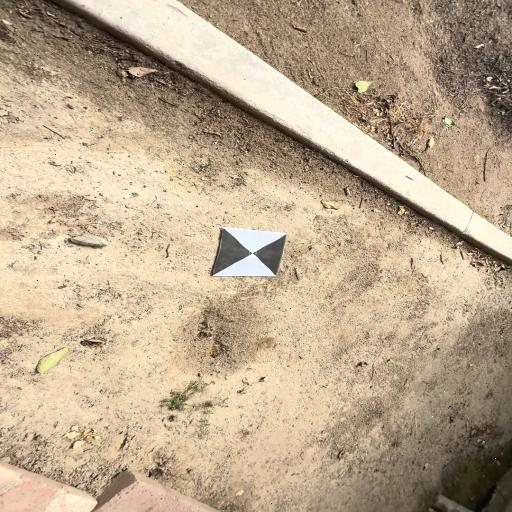target: (212, 227, 287, 276)
